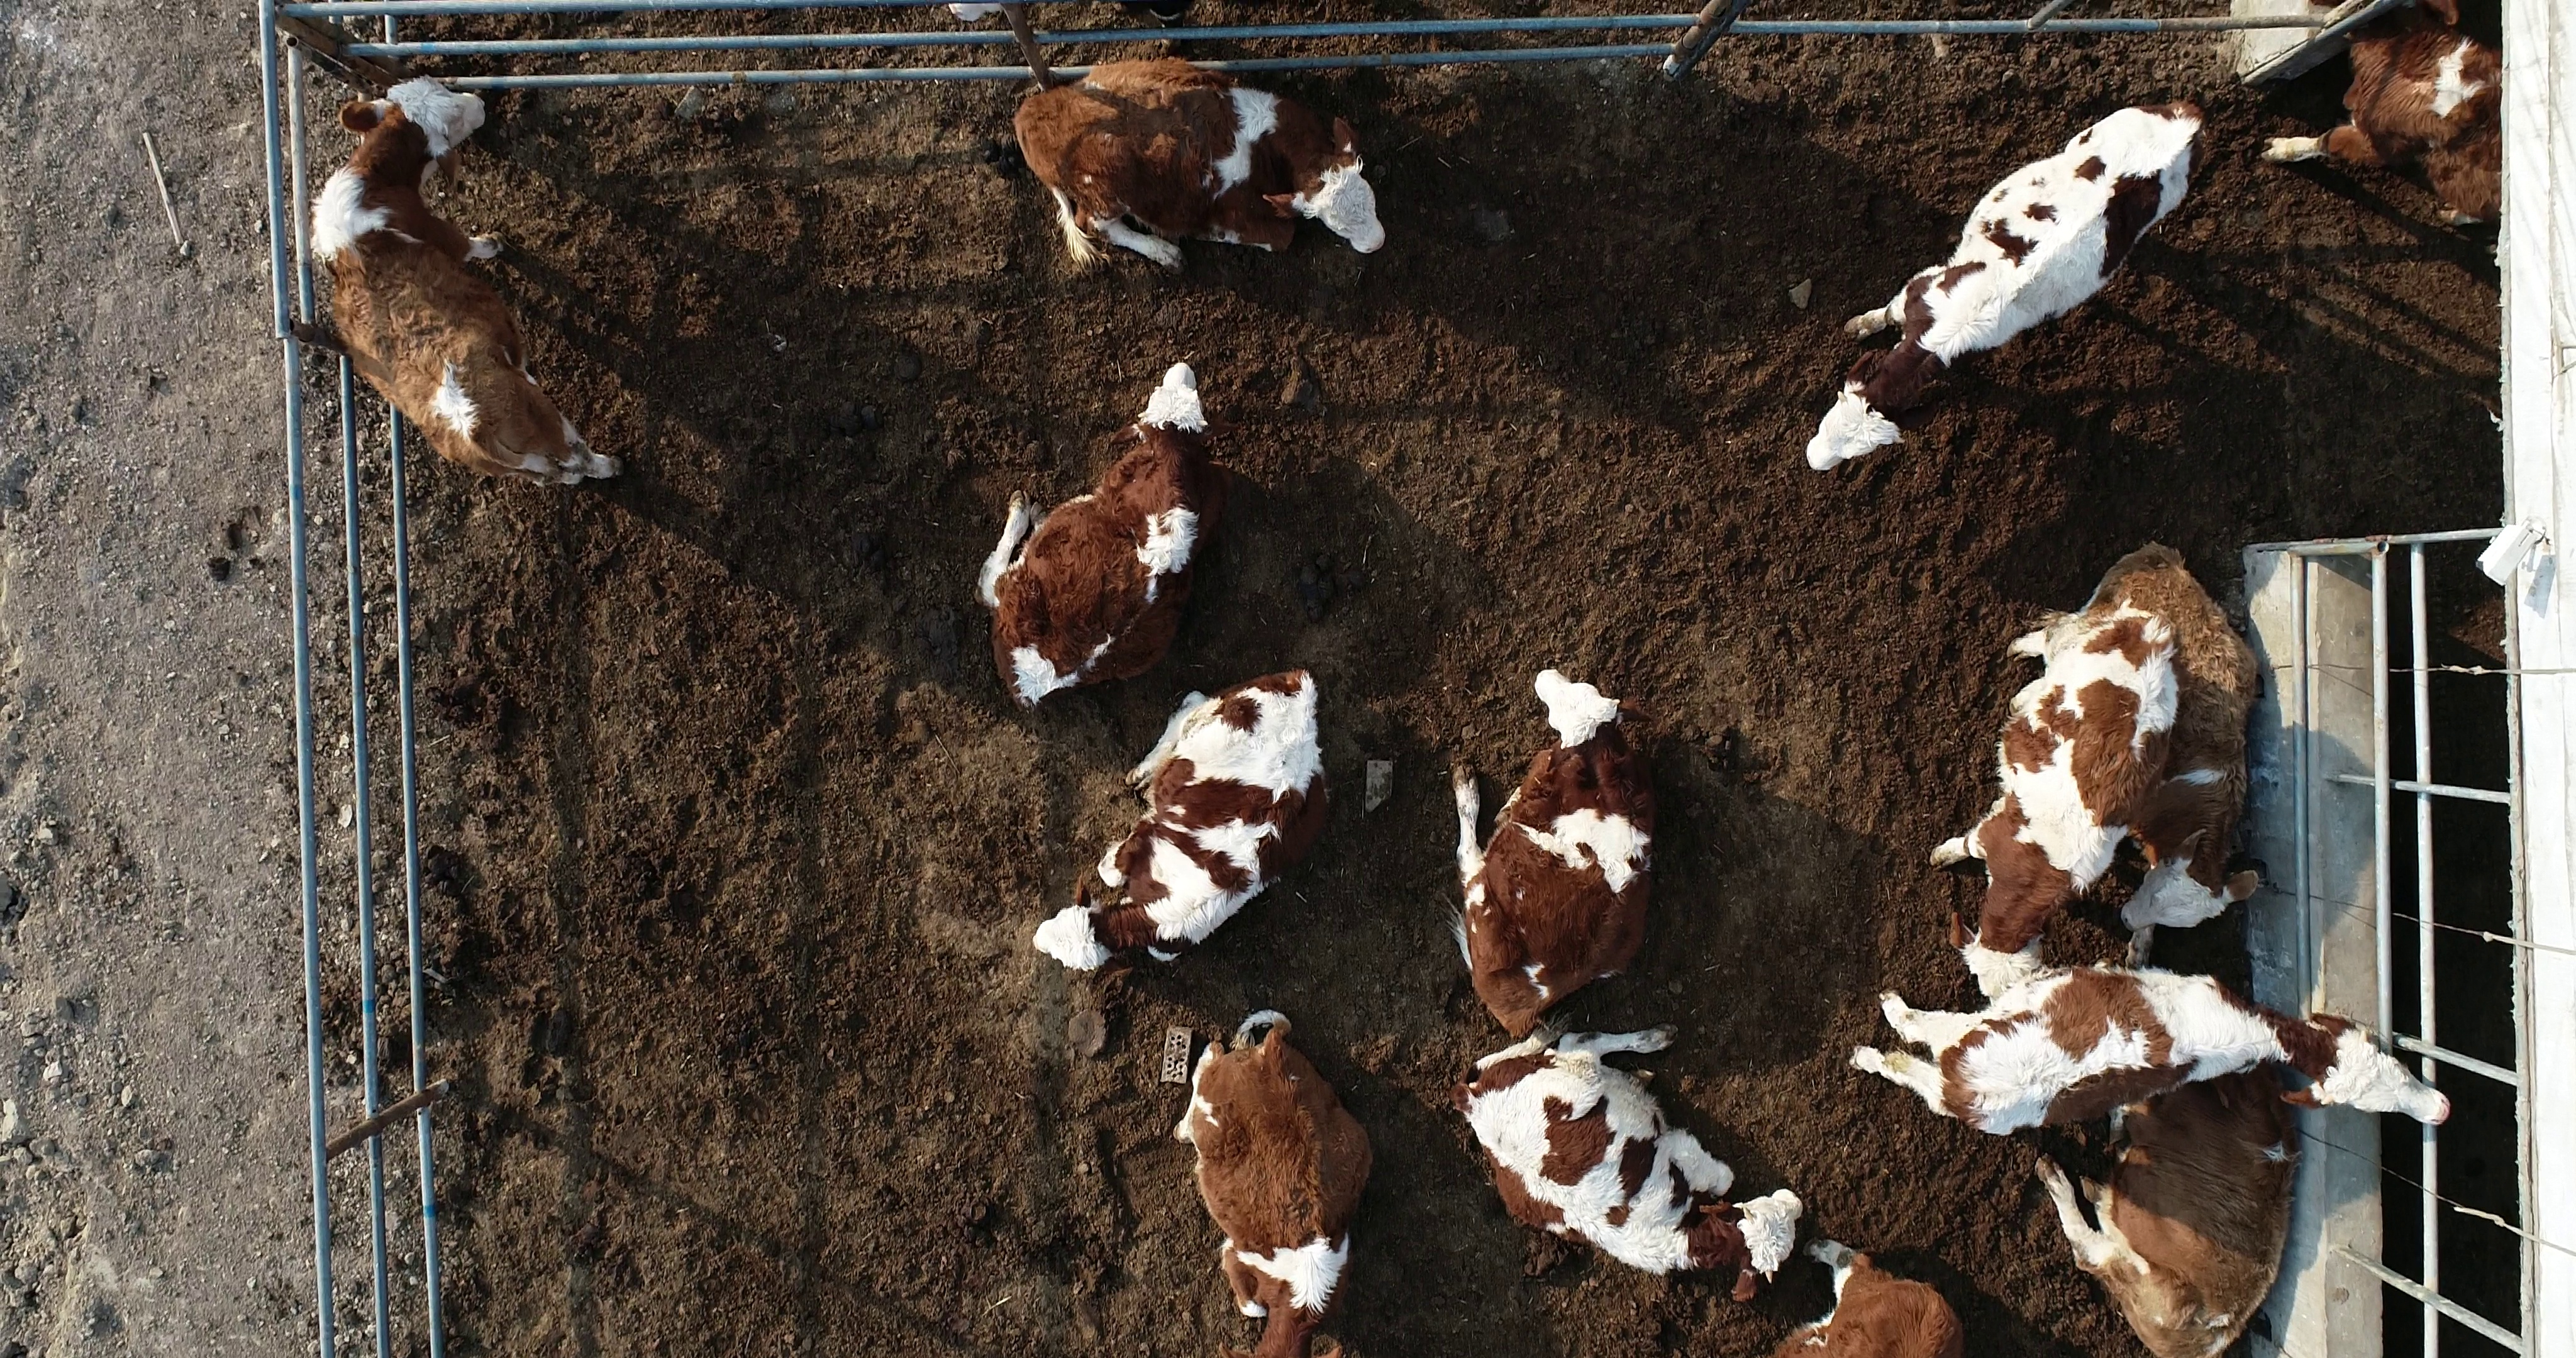cattle: (1799, 97, 2208, 477), (308, 72, 629, 492), (1843, 963, 2457, 1140), (1925, 598, 2182, 998), (966, 356, 1233, 724), (1005, 55, 1390, 274)
